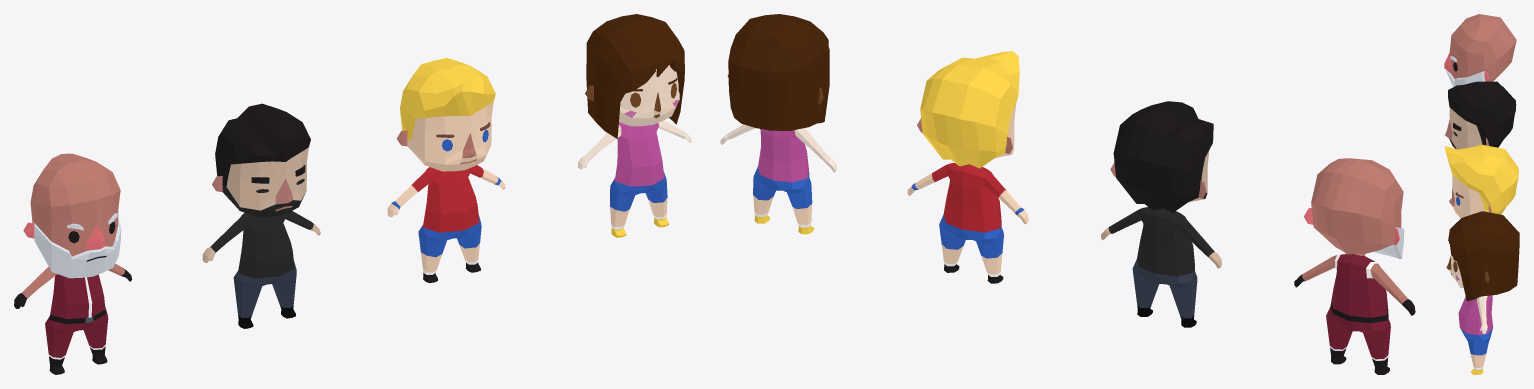
File: low_poly_characters_pack.glb
The picture shows the model from 3 angles, left to right: view 1: azimuth 30°, elevation 25°; view 2: azimuth 150°, elevation 25°; view 3: azimuth 270°, elevation 25°; orthographic projection. The views are drawn at different scales.
Visible parts, largest first — view 1: Object_5, Object_2, Object_3, Object_4; view 2: Object_2, Object_5, Object_3, Object_4; view 3: Object_5, Object_2, Object_3, Object_4.
Part boxes in pixels (left/top/right/bottom): Object_5: left=578, top=14, right=691, bottom=237; Object_2: left=387, top=58, right=505, bottom=282; Object_3: left=202, top=103, right=320, bottom=328; Object_4: left=14, top=153, right=132, bottom=374; Object_2: left=907, top=51, right=1028, bottom=283; Object_5: left=720, top=14, right=836, bottom=234; Object_3: left=1101, top=101, right=1221, bottom=327; Object_4: left=1294, top=158, right=1415, bottom=374; Object_5: left=1446, top=211, right=1519, bottom=374; Object_2: left=1444, top=144, right=1518, bottom=218; Object_3: left=1445, top=81, right=1516, bottom=149; Object_4: left=1444, top=14, right=1516, bottom=87.
Bounding box in the file's own units: 72.49 × 21.14 × 9.61.
4 materials, 4 textured.
